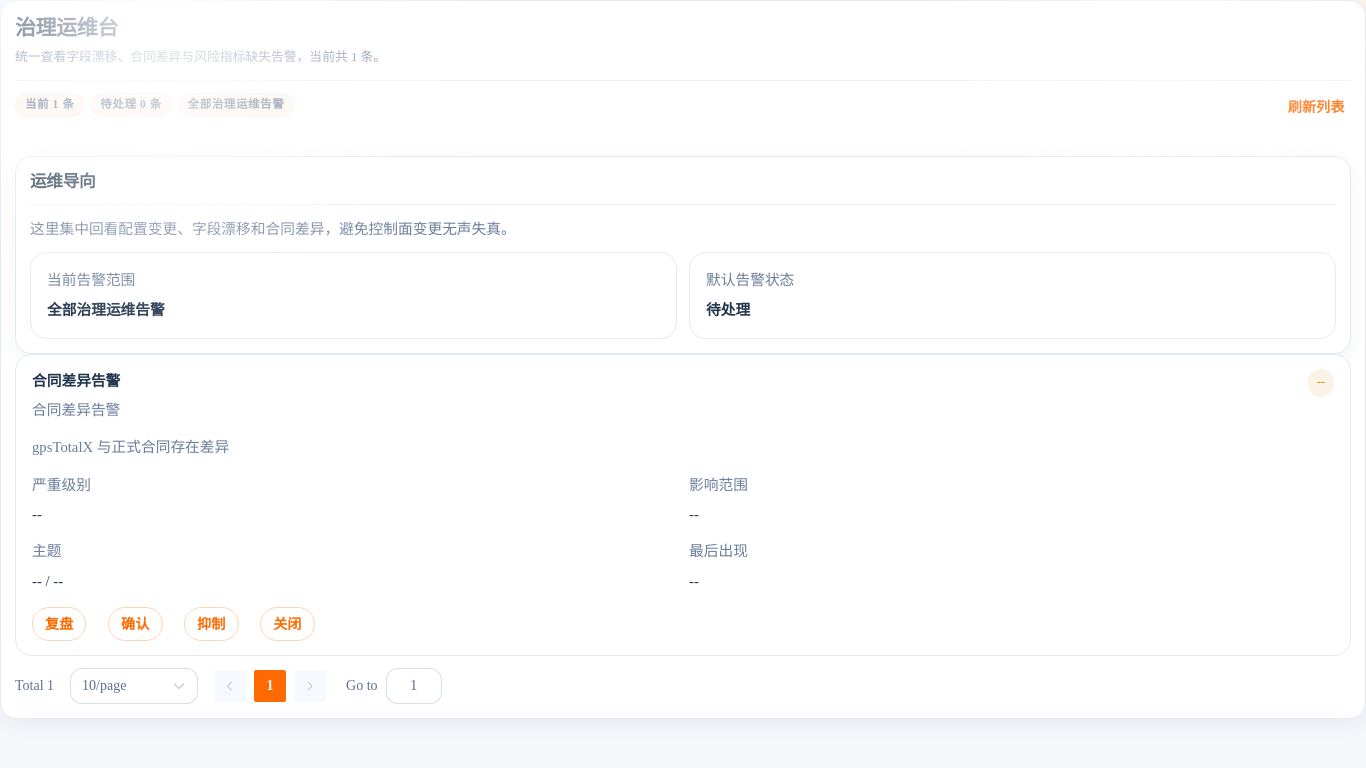
governance control plane views › loads governance replay from ops alerts with replay context
Click the button "复盘" at (59, 624), box left=32, top=607, right=86, bottom=641
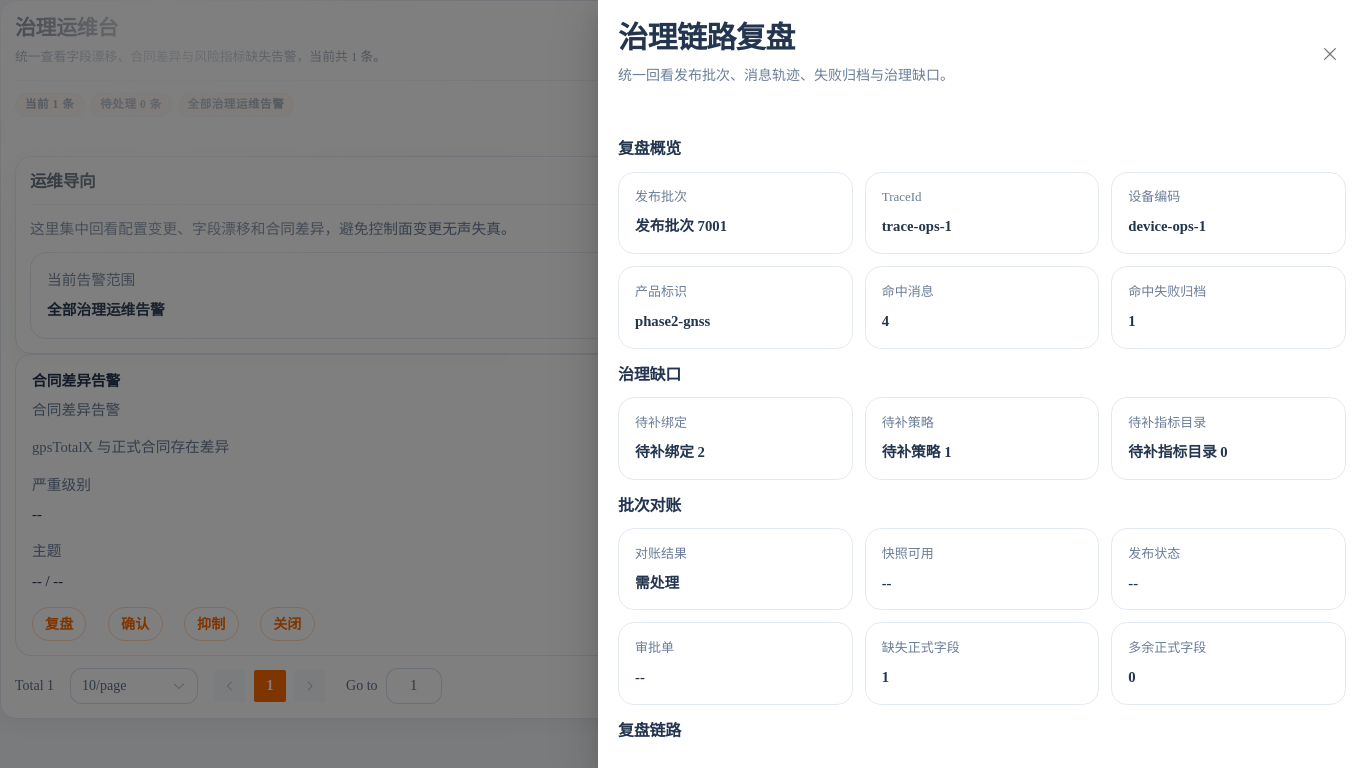
expect the text "治理链路复盘" is shown: met, box left=618, top=21, right=795, bottom=55
expect the text "发布批次 7001" is shown: met, box left=635, top=218, right=727, bottom=234
expect the text "待补绑定 2" is shown: met, box left=635, top=444, right=705, bottom=460
